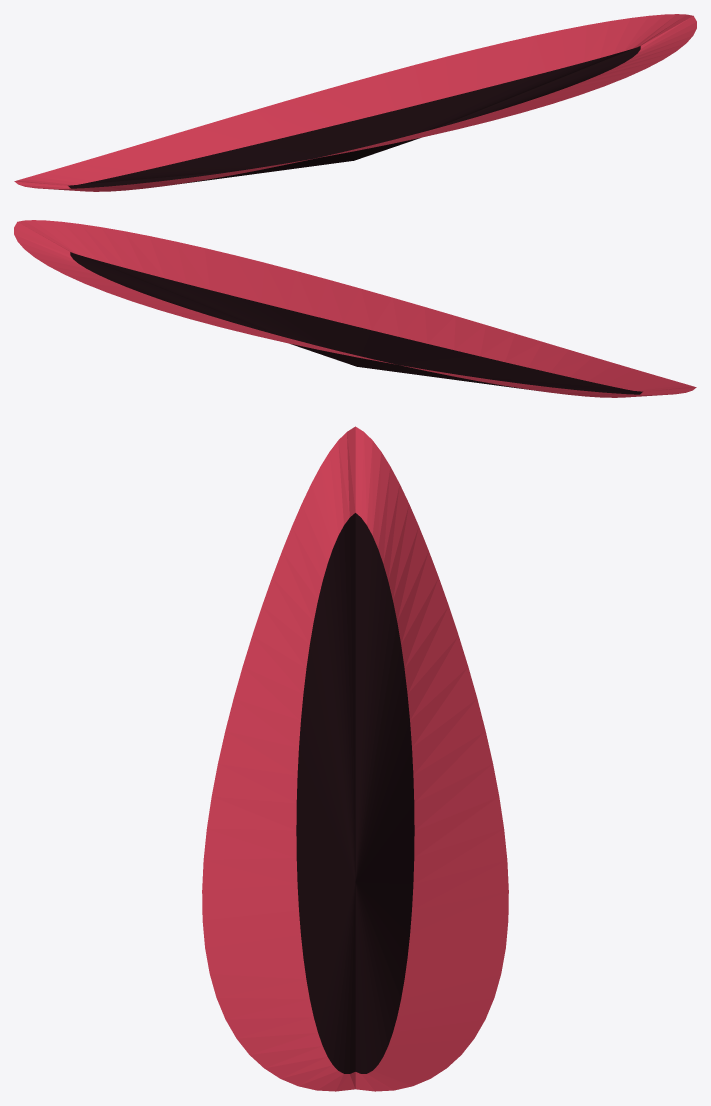
The model's file is viseme-smile.obj.
3 views of the same model, one above another, from view 1: azimuth 30°, elevation 25°; view 2: azimuth 150°, elevation 25°; view 3: azimuth 270°, elevation 25° (orthographic). The views are drawn at different scales.
Parts seen in each view (by area): view 1: viseme_smile; view 2: viseme_smile; view 3: viseme_smile.
Part boxes in pixels (bbox=[...]): viseme_smile: bbox=[14, 14, 696, 191]; viseme_smile: bbox=[14, 220, 696, 397]; viseme_smile: bbox=[202, 426, 508, 1091].
Bounding box in the file's own units: 0.664 × 0.058 × 0.1299.
